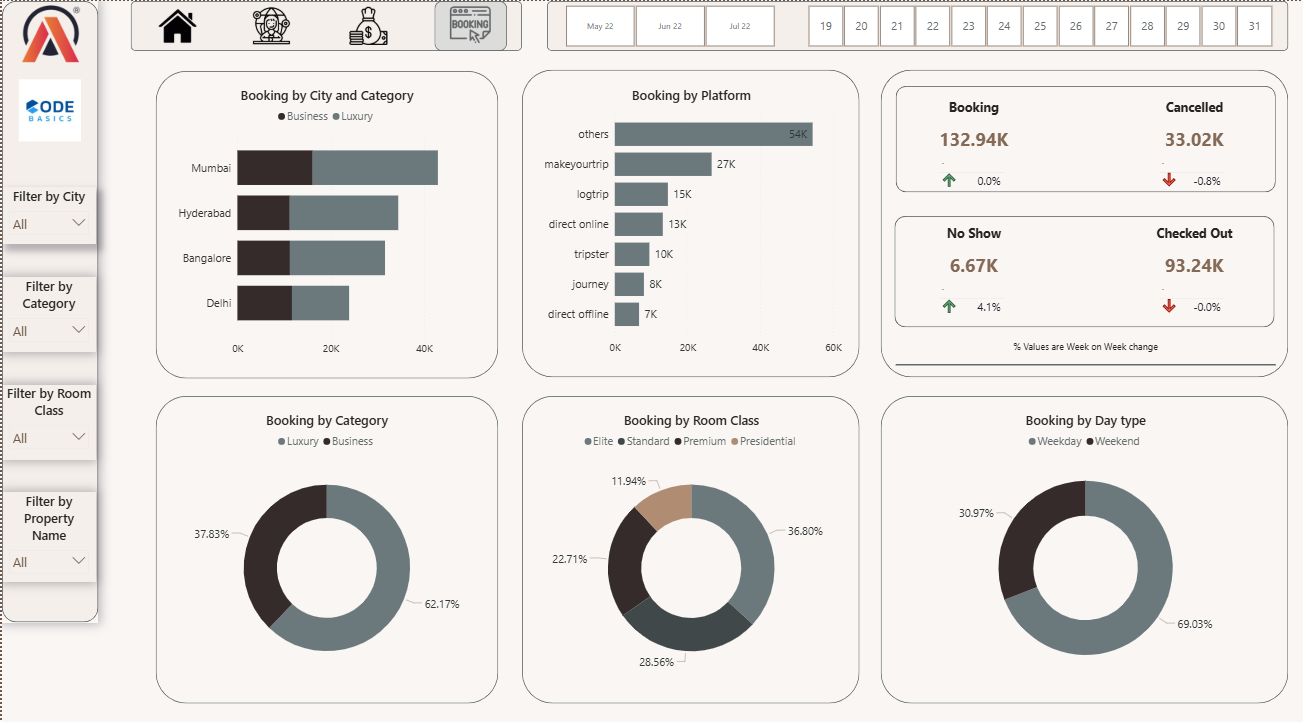

This screenshot's page, from the dashboard's own definition file:
{"tool":"powerbi","page":{"name":"Booking Analysis","canvas":[1920,1080],"ordinal":3},"visuals":[{"type":"shape","box":[1289.5,579.6,598,451.2],"z":0},{"type":"donutChart","title":"Booking by Day type","fields":{"Category":["dim_date.day type"],"Y":["KeyMeasures.Total bookings"]},"box":[1311.5,601.6,557.6,405.4],"z":1000},{"type":"shape","box":[763,579.6,495.2,451.2],"z":2000},{"type":"donutChart","title":"Booking by Room Class","fields":{"Category":["dim_rooms.room_class"],"Y":["KeyMeasures.Total bookings"]},"box":[781.4,601.6,460.4,405.4],"z":3000},{"type":"shape","box":[225.6,579.6,502.6,451.2],"z":4000},{"type":"donutChart","title":"Booking by Category","fields":{"Category":["dim_hotels.category"],"Y":["KeyMeasures.Total bookings"]},"box":[247.6,601.6,458.6,405.4],"z":5000},{"type":"shape","box":[1289.5,100.9,598,451.2],"z":6000},{"type":"shape","box":[763,100.9,495.2,451.2],"z":7000},{"type":"clusteredBarChart","title":"Booking by Platform","fields":{"Y":["KeyMeasures.Total bookings"],"Category":["fact_bookings.booking_platform"]},"box":[781.4,124.7,460.4,403.5],"z":8000},{"type":"shape","box":[225.6,102.7,502.6,451.2],"z":9000},{"type":"shape","box":[0,0,141.2,911.6],"z":10000},{"type":"image","box":[5.5,110.1,130.2,100.9],"z":11000},{"type":"image","box":[7.3,0,130.2,95.4],"z":12000},{"type":"slicer","title":"Filter by City","fields":{"Values":["dim_hotels.city"]},"box":[0,273.3,137.6,84.4],"z":13000},{"type":"slicer","title":"Filter by Category","fields":{"Values":["dim_hotels.category"]},"box":[0,405.4,137.6,110.1],"z":14000},{"type":"slicer","title":"Filter by Room Class","fields":{"Values":["dim_rooms.room_class"]},"box":[0,563.1,137.6,110.1],"z":15000},{"type":"slicer","title":"Filter by Property Name","fields":{"Values":["dim_hotels.property_name"]},"box":[0,720.9,137.6,132.1],"z":16000},{"type":"shape","box":[188.9,0,574.1,73.4],"z":17000},{"type":"image","box":[189.3,3.7,137.6,66],"z":18000},{"type":"image","box":[326.9,3.7,137.6,66],"z":19000},{"type":"image","box":[464.4,3.7,146.7,66],"z":20000},{"type":"image","box":[611.2,0,152.2,69.7],"z":21000},{"type":"shape","box":[799.7,0,1087.7,73.4],"z":22000},{"type":"slicer","fields":{"Values":["dim_date.Month"]},"box":[801.6,0,355.8,73.4],"z":23000},{"type":"slicer","fields":{"Values":["dim_date.wn"]},"box":[1157.4,0,730,73.4],"z":24000},{"type":"barChart","title":"Booking by City and Category","fields":{"Y":["KeyMeasures.Total bookings"],"Category":["dim_hotels.city"],"Series":["dim_hotels.category"]},"box":[247.6,124.7,458.6,405.4],"z":25000},{"type":"shape","box":[1311.5,124.7,557.6,155.9],"z":26000},{"type":"shape","box":[1309.7,315.5,557.6,163.2],"z":27000},{"type":"card","title":"Booking","fields":{"Values":["KeyMeasures.Total bookings"]},"box":[1329.8,143.1,192.6,100.9],"z":28000},{"type":"card","title":"Cancelled","fields":{"Values":["KeyMeasures.Total cancelled bookings"]},"box":[1647.2,143.1,205.4,100.9],"z":29000},{"type":"tableEx","fields":{"Values":["KeyMeasures.Total Booking WoW chng%"]},"box":[1368.3,220.1,117.4,60.5],"z":30000},{"type":"tableEx","fields":{"Values":["KeyMeasures.Total cancelled bookings WoW chng%"]},"box":[1691.2,220.1,117.4,60.5],"z":31000},{"type":"card","title":"No Show","fields":{"Values":["KeyMeasures.Total no show bookings"]},"box":[1329.8,328.3,192.6,100.9],"z":32000},{"type":"card","title":"Checked Out","fields":{"Values":["KeyMeasures.Total checked out"]},"box":[1647.2,328.3,205.4,100.9],"z":33000},{"type":"tableEx","fields":{"Values":["KeyMeasures.No Show Bookings WoW chng%"]},"box":[1368.3,405.4,117.4,60.5],"z":34000},{"type":"tableEx","fields":{"Values":["KeyMeasures.Checked Out WoW chng%"]},"box":[1691.2,405.4,117.4,60.5],"z":35000},{"type":"shape","box":[1310.8,522.8,557.6,22],"z":36000},{"type":"textbox","box":[1310.8,493.4,557.6,40.4],"z":37000},{"type":"shape","box":[634.7,0,106.4,73.4],"z":38000}]}

Visuals, with their boxes on the page's 1920x1080 design canvas (x1, y1, x2, y2). These are canvas units, not pixel positions in the 1303x722 screenshot, which may show the page scaled, cropped or inside an application window:
shape: box=[1290, 580, 1888, 1031]
"Booking by Day type" donutChart: box=[1312, 602, 1869, 1007]
shape: box=[763, 580, 1258, 1031]
"Booking by Room Class" donutChart: box=[781, 602, 1242, 1007]
shape: box=[226, 580, 728, 1031]
"Booking by Category" donutChart: box=[248, 602, 706, 1007]
shape: box=[1290, 101, 1888, 552]
shape: box=[763, 101, 1258, 552]
"Booking by Platform" clusteredBarChart: box=[781, 125, 1242, 528]
shape: box=[226, 103, 728, 554]
shape: box=[0, 0, 141, 912]
image: box=[6, 110, 136, 211]
image: box=[7, 0, 138, 95]
"Filter by City" slicer: box=[0, 273, 138, 358]
"Filter by Category" slicer: box=[0, 405, 138, 516]
"Filter by Room Class" slicer: box=[0, 563, 138, 673]
"Filter by Property Name" slicer: box=[0, 721, 138, 853]
shape: box=[189, 0, 763, 73]
image: box=[189, 4, 327, 70]
image: box=[327, 4, 464, 70]
image: box=[464, 4, 611, 70]
image: box=[611, 0, 763, 70]
shape: box=[800, 0, 1887, 73]
slicer - dim_date.Month: box=[802, 0, 1157, 73]
slicer - dim_date.wn: box=[1157, 0, 1887, 73]
"Booking by City and Category" barChart: box=[248, 125, 706, 530]
shape: box=[1312, 125, 1869, 281]
shape: box=[1310, 316, 1867, 479]
"Booking" card: box=[1330, 143, 1522, 244]
"Cancelled" card: box=[1647, 143, 1853, 244]
tableEx - KeyMeasures.Total Booking WoW chng%: box=[1368, 220, 1486, 281]
tableEx - KeyMeasures.Total cancelled bookings WoW chng%: box=[1691, 220, 1809, 281]
"No Show" card: box=[1330, 328, 1522, 429]
"Checked Out" card: box=[1647, 328, 1853, 429]
tableEx - KeyMeasures.No Show Bookings WoW chng%: box=[1368, 405, 1486, 466]
tableEx - KeyMeasures.Checked Out WoW chng%: box=[1691, 405, 1809, 466]
shape: box=[1311, 523, 1868, 545]
textbox: box=[1311, 493, 1868, 534]
shape: box=[635, 0, 741, 73]
